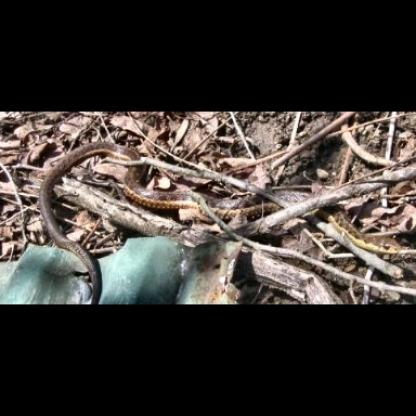Snake: (39, 137, 404, 273)
